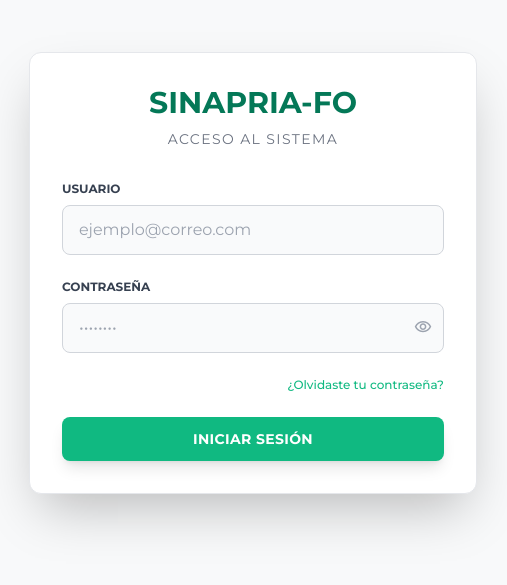
Login Component › shows error message for weak password
The image size is (507, 585).
Type "valid@example.com" into the field labelled "Usuario".
click(253, 230); type("valid@example.com")  # box [62,205,444,255]
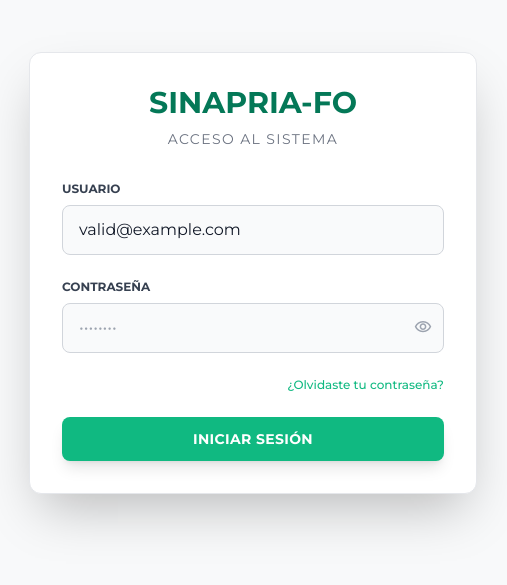
Type "weak" into the password field labelled "Contraseña".
click(253, 328); type("weak")  # box [62,303,444,353]
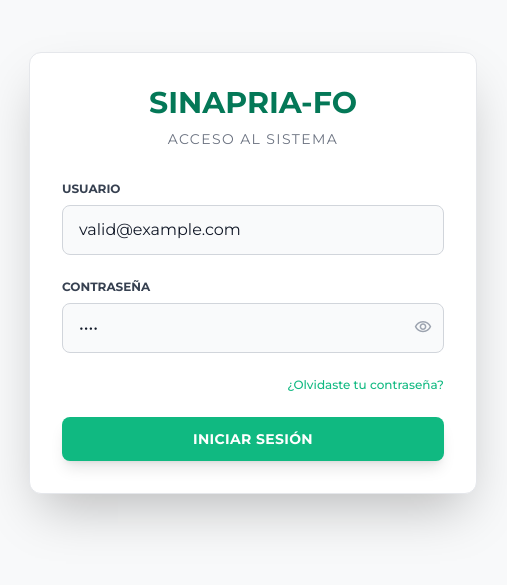
Click the button "Iniciar Sesión".
click(253, 439)  # box [62,417,444,461]
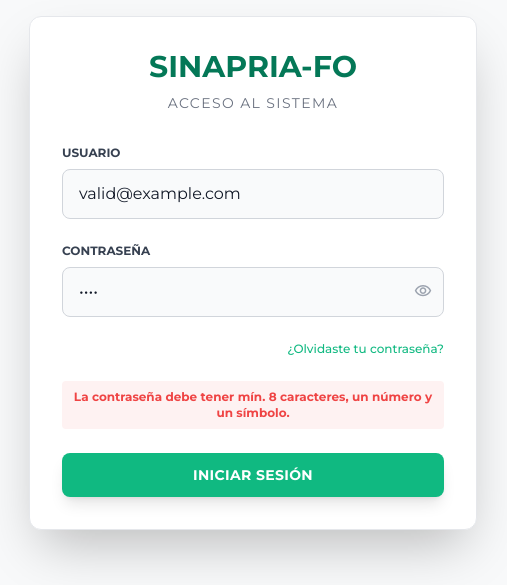
Expected: the text "La contraseña debe tener mín. 8 caracteres" is shown, [74,389,432,420]
